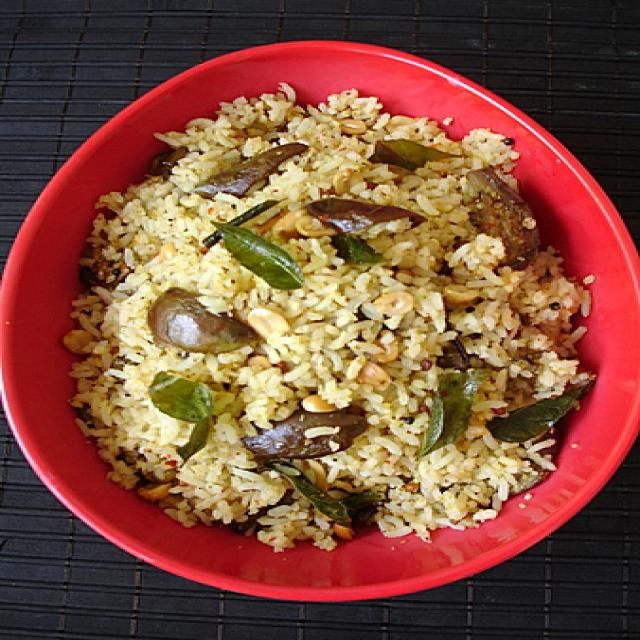vangi bath: (38, 69, 611, 567)
